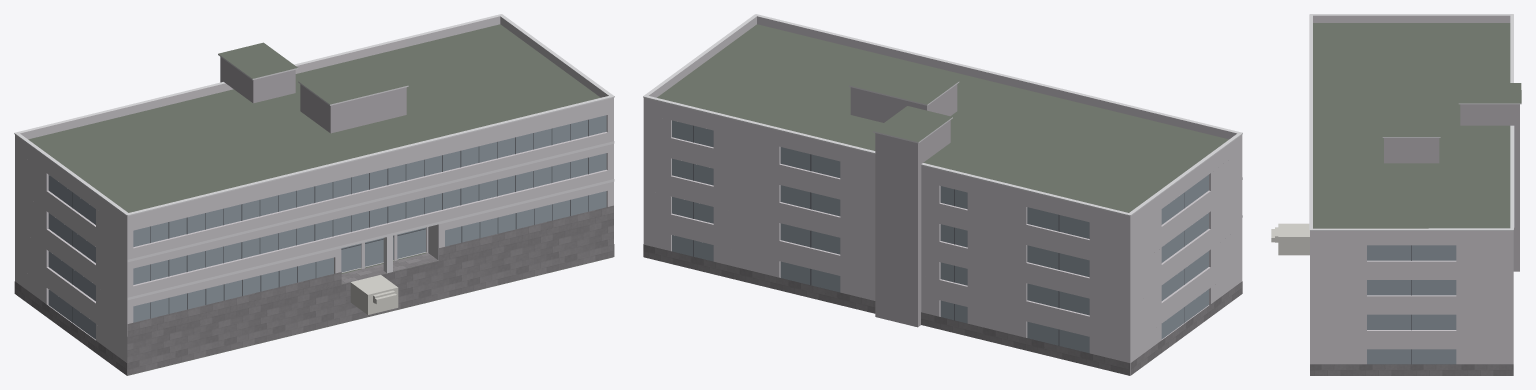
The picture shows the model from 3 angles, left to right: view 1: azimuth 30°, elevation 25°; view 2: azimuth 150°, elevation 25°; view 3: azimuth 270°, elevation 25°; orthographic projection. The views are drawn at different scales.
Visible parts, largest first — view 1: b135__roof, b135__wall, b135__glass, b135__base, b135__parapet, b135__trim, b135__wall2, b135__frame, b135__entranceStair; view 2: b135__wall, b135__roof, b135__glass, b135__wall2, b135__parapet, b135__base, b135__trim; view 3: b135__roof, b135__wall, b135__glass, b135__wall2, b135__trim, b135__parapet, b135__base, b135__entranceStair.
Part boxes in pixels (x1,y1,x2,y2): b135__roof: (28, 24, 612, 375); b135__wall: (15, 104, 613, 375); b135__glass: (48, 115, 606, 339); b135__base: (14, 205, 614, 375); b135__parapet: (15, 16, 613, 222); b135__trim: (14, 14, 614, 299); b135__wall2: (220, 57, 406, 133); b135__frame: (72, 119, 588, 322); b135__entranceStair: (350, 275, 398, 314); b135__wall: (643, 104, 1242, 375); b135__roof: (657, 24, 1228, 212); b135__glass: (672, 120, 1208, 353); b135__wall2: (850, 84, 957, 327); b135__parapet: (643, 16, 1242, 222); b135__base: (643, 244, 1242, 375); b135__trim: (643, 14, 1242, 217); b135__roof: (1313, 23, 1521, 228); b135__wall: (1310, 237, 1513, 364); b135__glass: (1367, 245, 1456, 364); b135__wall2: (1384, 104, 1519, 271); b135__trim: (1309, 14, 1521, 230); b135__parapet: (1310, 15, 1513, 236); b135__base: (1310, 364, 1513, 375); b135__entranceStair: (1271, 223, 1309, 255).
Size of the model in its own units: 48.12 by 17.57 by 23.52.
Materials: 11 (1 with a texture image).
